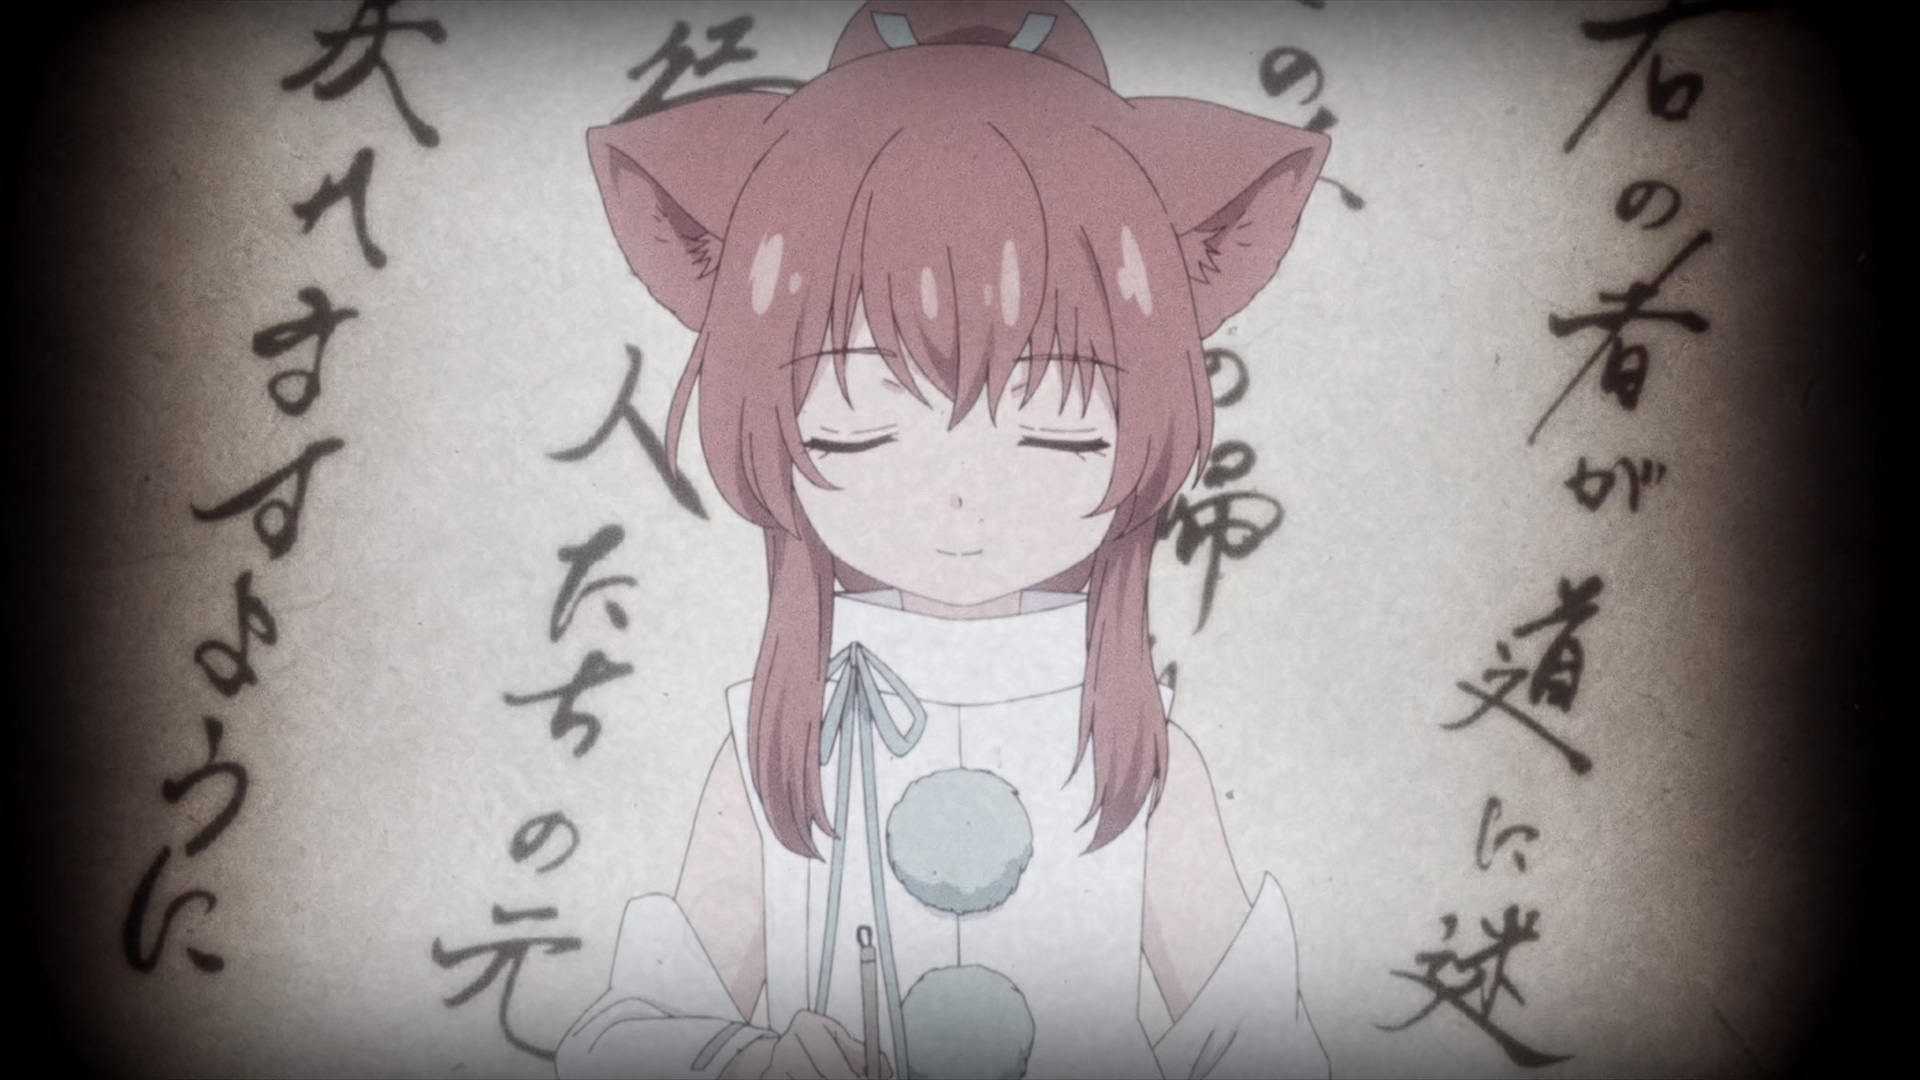椿: (553, 1, 1335, 1080)
